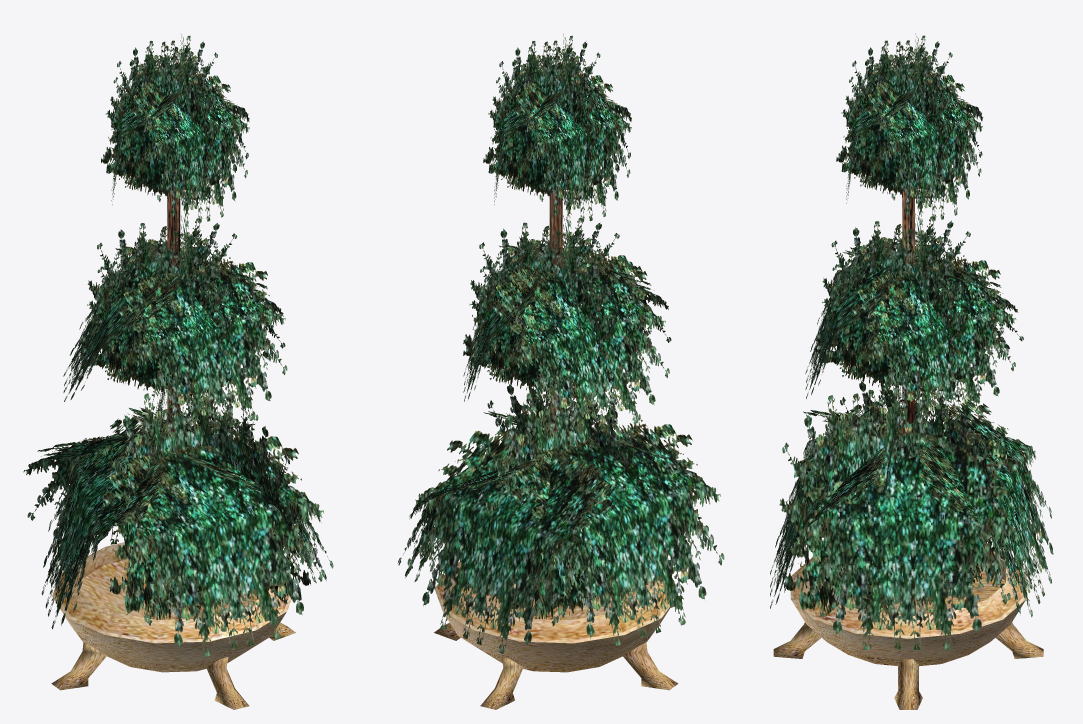
The model's file is frn_all_plant_potted_lg_s3_l0.fbx.
3 renders of one model, left to right at view 1: azimuth 30°, elevation 25°; view 2: azimuth 150°, elevation 25°; view 3: azimuth 270°, elevation 25°, orthographic.
Visible parts, largest first — view 1: mesh_node; view 2: mesh_node; view 3: mesh_node.
Part boxes in pixels (box(x1,y1,x2,y2)): mesh_node: box(23, 34, 333, 709); mesh_node: box(397, 34, 724, 709); mesh_node: box(770, 33, 1053, 709).
Bounding box in the file's own units: 0.9308 × 2.03 × 0.9006.
2 materials, 2 textured.
